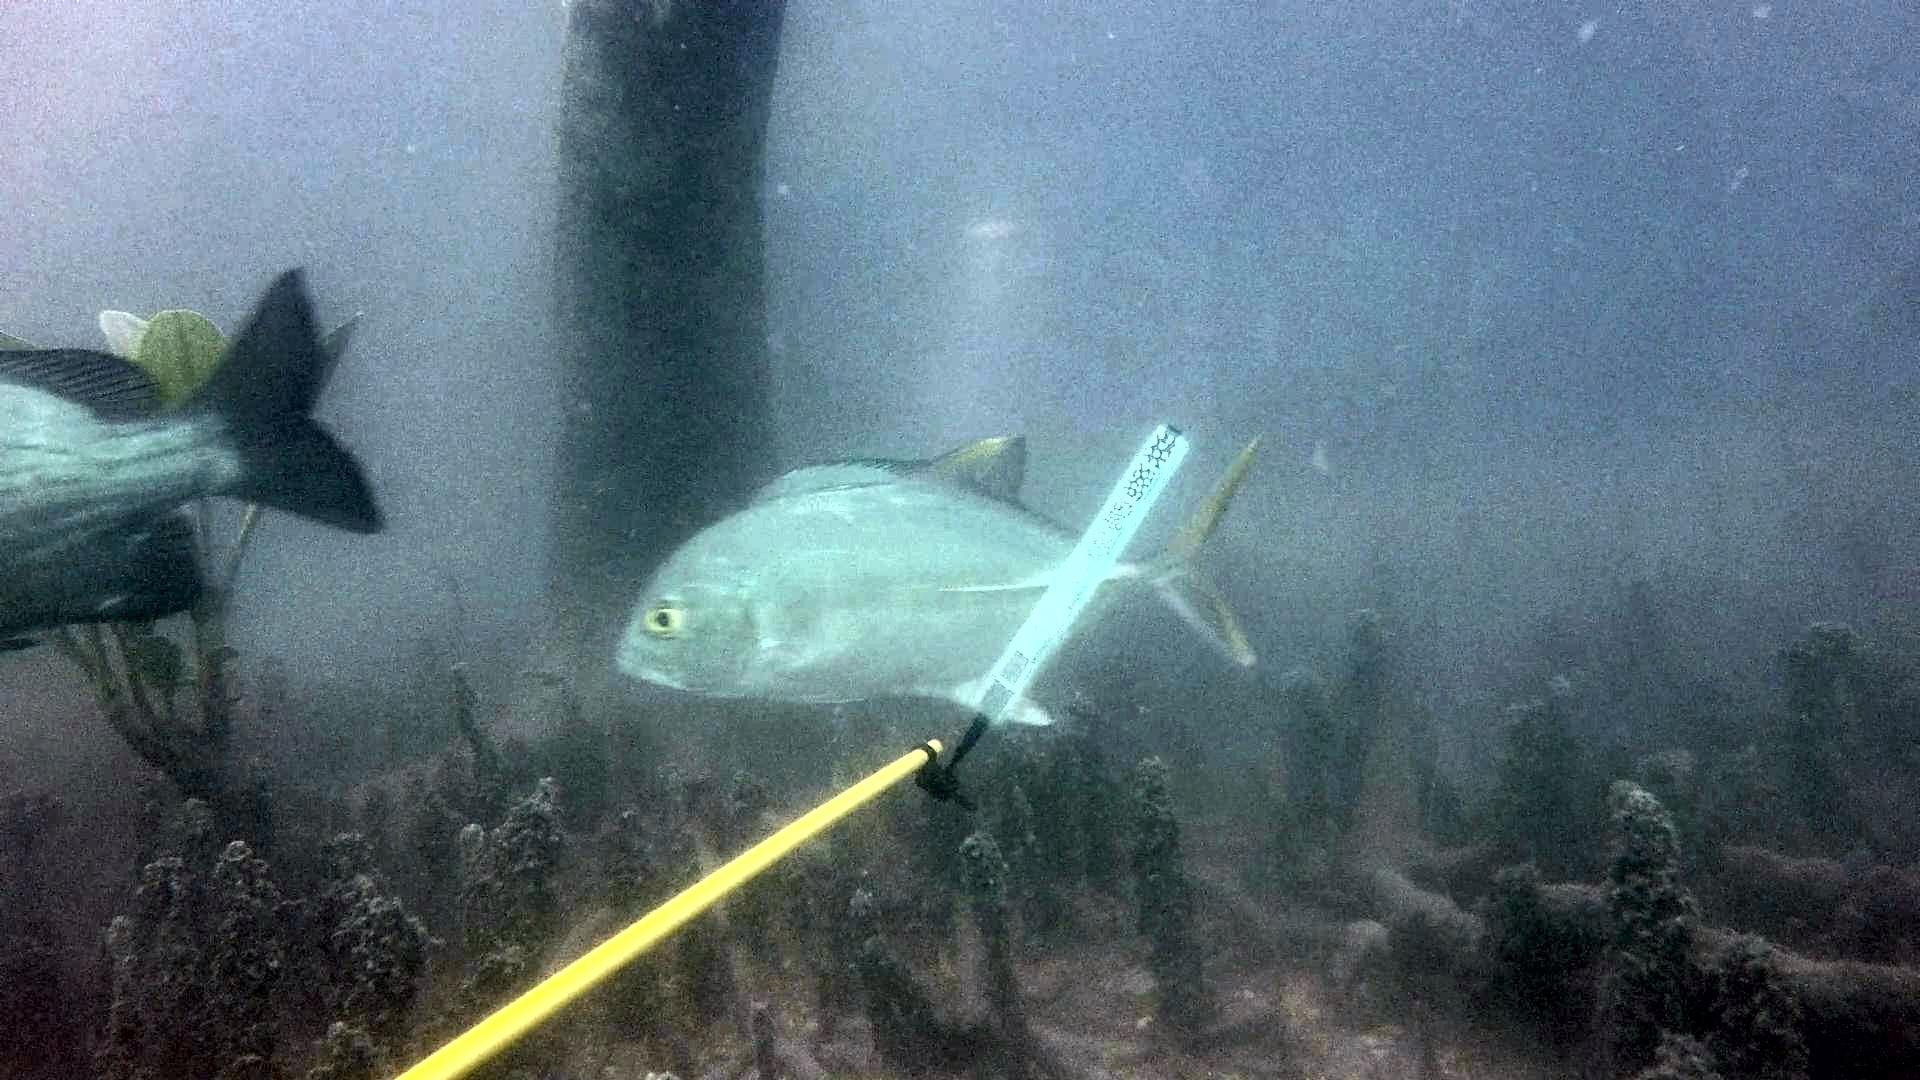acanthopagrus palmaris: (0, 268, 393, 653)
caranx: (611, 426, 1288, 742)
